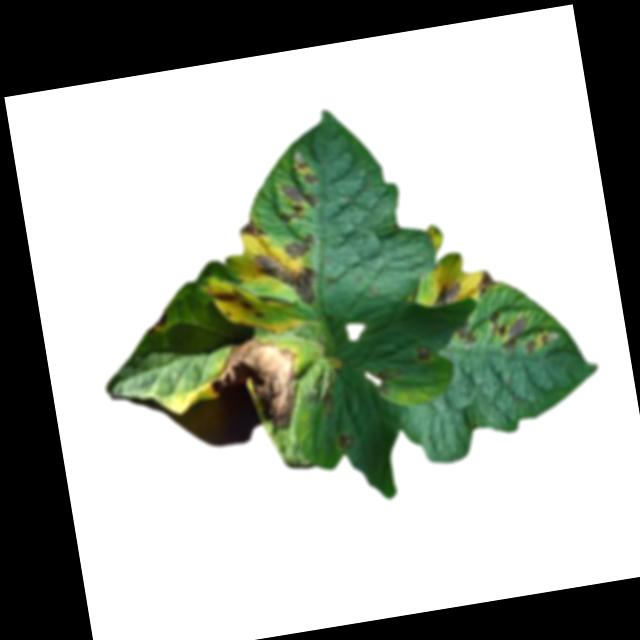Early_blight: (205, 329, 305, 437), (254, 242, 322, 314), (269, 149, 326, 225), (486, 301, 558, 360), (210, 281, 264, 326), (426, 277, 464, 308), (284, 232, 318, 259), (237, 214, 269, 241), (473, 268, 499, 298), (453, 319, 477, 345), (413, 339, 434, 364), (148, 304, 166, 330), (337, 429, 356, 449)
